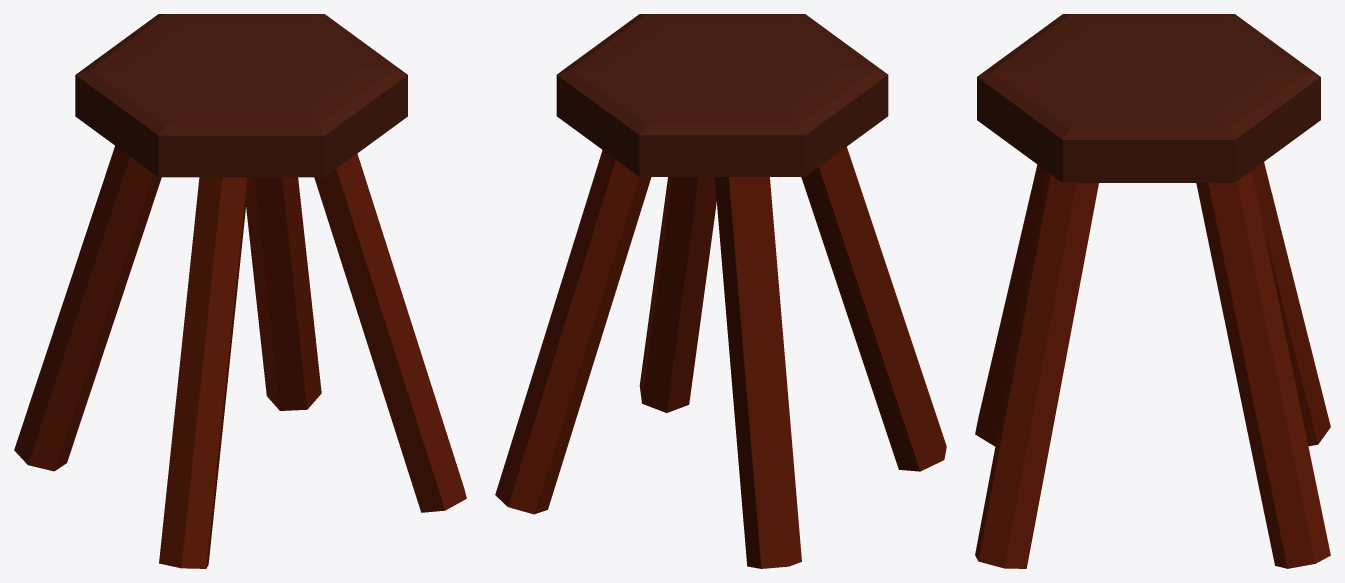
File: Stool.fbx
3 renders of one model, left to right at view 1: azimuth 30°, elevation 25°; view 2: azimuth 150°, elevation 25°; view 3: azimuth 270°, elevation 25°, orthographic. The views are drawn at different scales.
Parts seen in each view (by area): view 1: Cylinder.004, Cylinder.003, Cylinder.001, Cylinder.002, Cylinder; view 2: Cylinder.004, Cylinder.002, Cylinder, Cylinder.003, Cylinder.001; view 3: Cylinder.004, Cylinder, Cylinder.001, Cylinder.002, Cylinder.003.
Boxes of the visible parts, x1,y1,x2,y2 form: Cylinder.004: (75, 14, 407, 177); Cylinder.003: (159, 177, 248, 568); Cylinder.001: (314, 153, 466, 512); Cylinder.002: (14, 146, 161, 471); Cylinder: (246, 177, 321, 410); Cylinder.004: (556, 14, 888, 176); Cylinder.002: (714, 177, 801, 568); Cylinder: (495, 150, 651, 514); Cylinder.003: (801, 147, 946, 471); Cylinder.001: (639, 177, 716, 412); Cylinder.004: (977, 14, 1320, 182); Cylinder: (1196, 171, 1330, 568); Cylinder.001: (975, 172, 1098, 568); Cylinder.002: (1252, 162, 1330, 446); Cylinder.003: (975, 164, 1046, 446).
Bounding box in the file's own units: 449 × 589 × 437.
